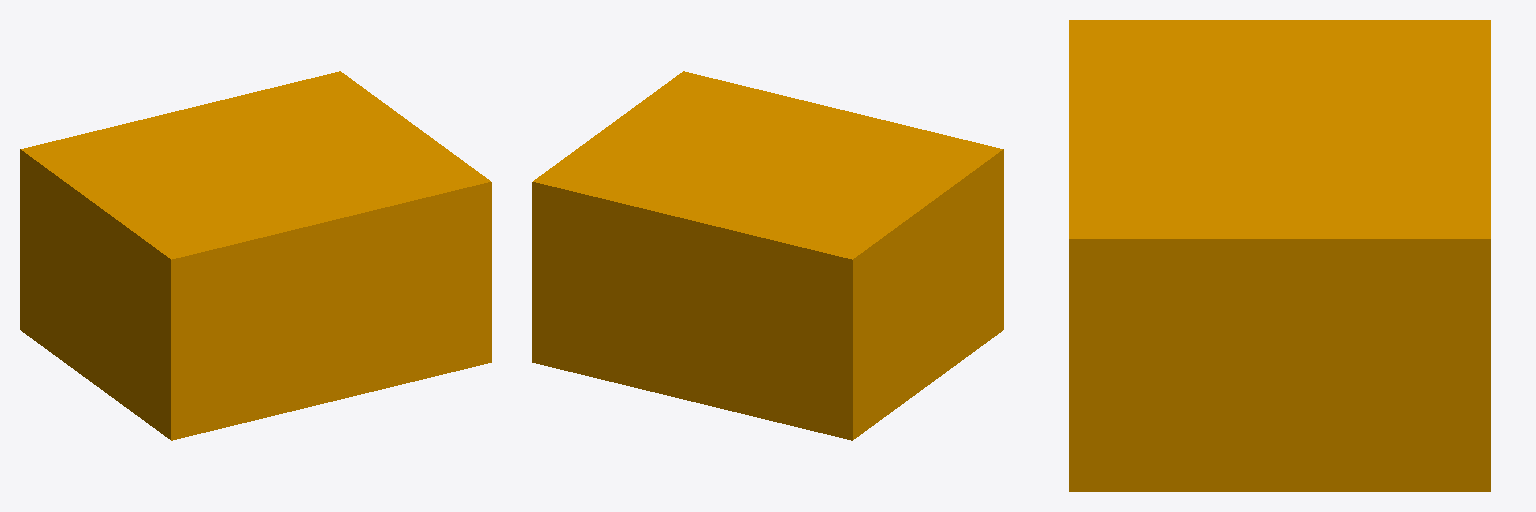
robot.urdf — object:
<?xml version="1.0"?>
<!-- Auto-generated by tools/gen_primitive_objects.py. kind=box dims=(0.089843, 0.073345, 0.048562) -->
<robot name="object">
  <link name="object">
    <visual>
      <origin xyz="0 0 0"/>
      <geometry>
        <box size="0.089843 0.073345 0.048562"/>
      </geometry>
    </visual>
    <collision>
      <origin xyz="0 0 0"/>
      <geometry>
        <box size="0.089843 0.073345 0.048562"/>
      </geometry>
    </collision>
    <inertial>
      <mass value="0.064000"/>
      <inertia ixx="0.00004127" ixy="0.0" ixz="0.0" iyy="0.00005563" iyz="0.0" izz="0.00007174"/>
    </inertial>
  </link>
</robot>

--- What the picture shows (computed from the rendered views, not written in the file) ---
3 views of the same robot in one strip: view 1: azimuth 30°, elevation 25°; view 2: azimuth 150°, elevation 25°; view 3: azimuth 270°, elevation 25° (orthographic).
Robot: object — 1 links, 0 joints (none); root link object; default pose: all joints at 0.
Links seen in each view (by area): view 1: object; view 2: object; view 3: object.
Boxes of the visible links, bbox=[...] form: object: bbox=[20, 71, 491, 440]; object: bbox=[532, 71, 1003, 440]; object: bbox=[1069, 20, 1490, 491].
Size in the robot's own frame: 0.0898 by 0.0733 by 0.0486 metres.
Geometry: primitives only (box / cylinder / sphere), no mesh files.
